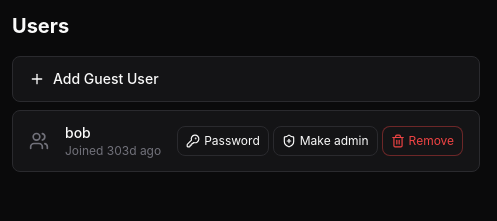
Test: UsersSection admin status + deletion (#274) › surfaces a failed deletion
Expected: the text "bob" is shown, [65,123,91,143]
Click the button "Remove".
click(422, 141)  # box [382,126,463,156]
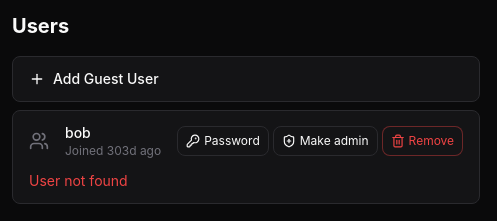
Result: the text "User not found" is shown at [29,172,128,189]
